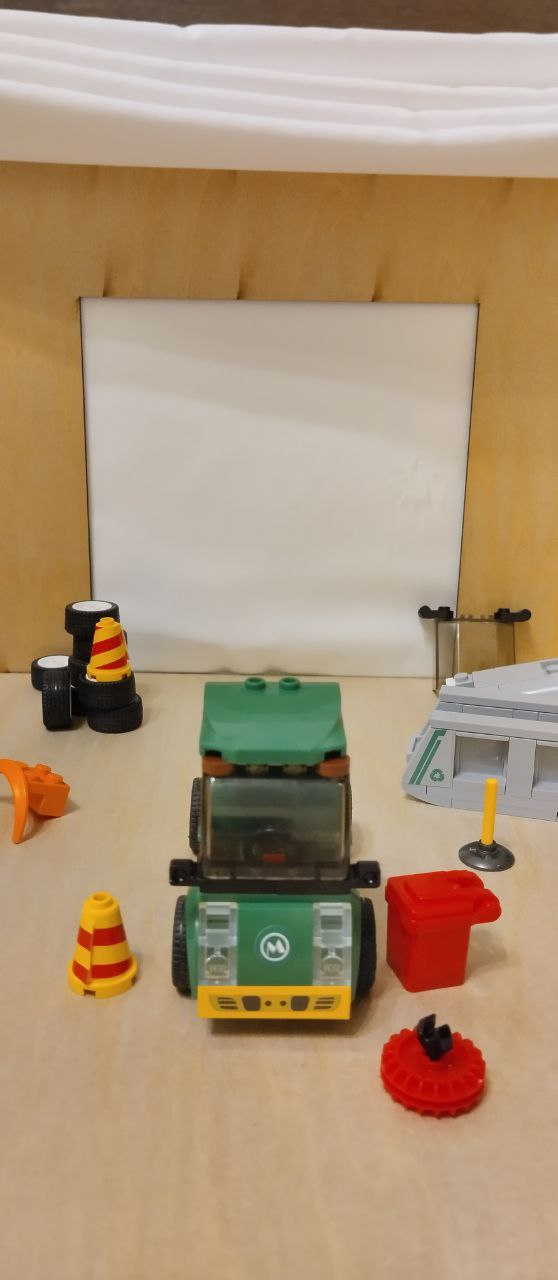Cone: (63, 888, 148, 1000), (76, 616, 137, 685)
Object Red: (376, 865, 514, 1003)
Truck: (159, 674, 388, 1030)
